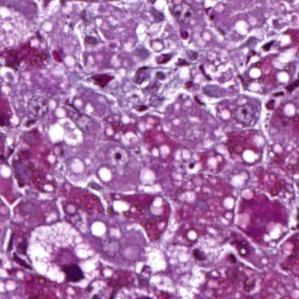ballooning: (24, 217, 103, 289)
